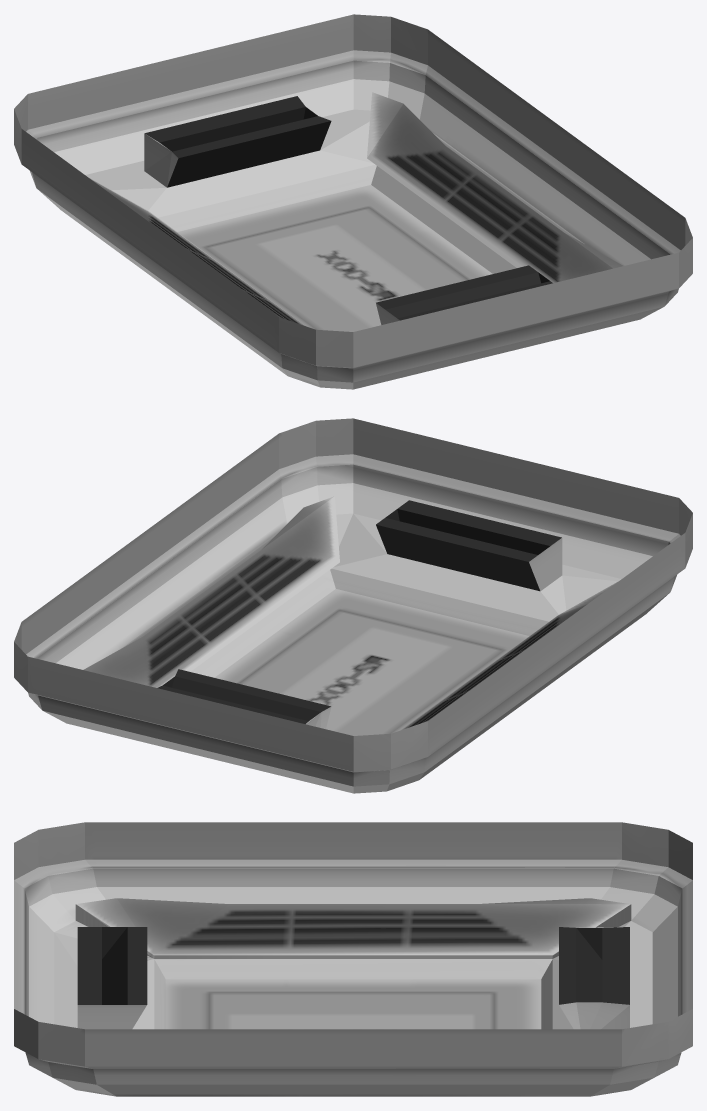
The model's file is AirCon3.fbx.
The picture shows the model from 3 angles, top to bottom: view 1: azimuth 30°, elevation 25°; view 2: azimuth 150°, elevation 25°; view 3: azimuth 270°, elevation 25°; orthographic projection. The views are drawn at different scales.
Parts seen in each view (by area): view 1: Empty_Mesh; view 2: Empty_Mesh; view 3: Empty_Mesh.
Boxes of the visible parts, bbox=[...] form: Empty_Mesh: bbox=[14, 14, 692, 389]; Empty_Mesh: bbox=[14, 418, 692, 793]; Empty_Mesh: bbox=[14, 822, 692, 1096].
Bounding box in the file's own units: 98.6 × 24.04 × 137.
